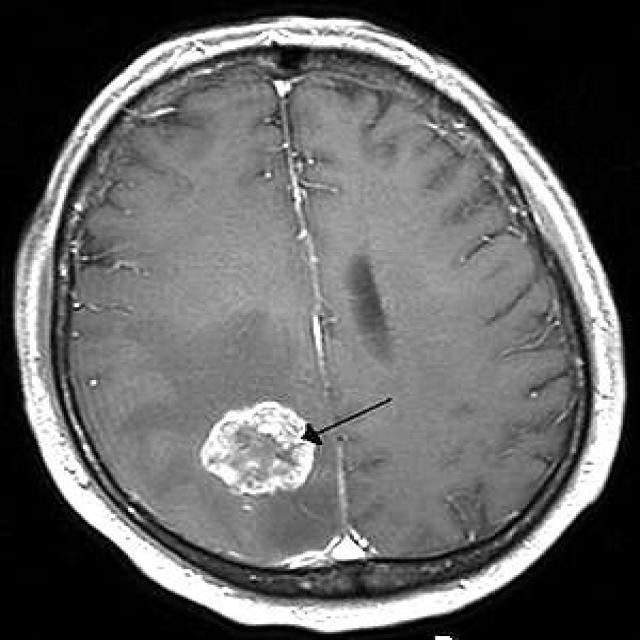Tumor: (192, 392, 323, 505)
